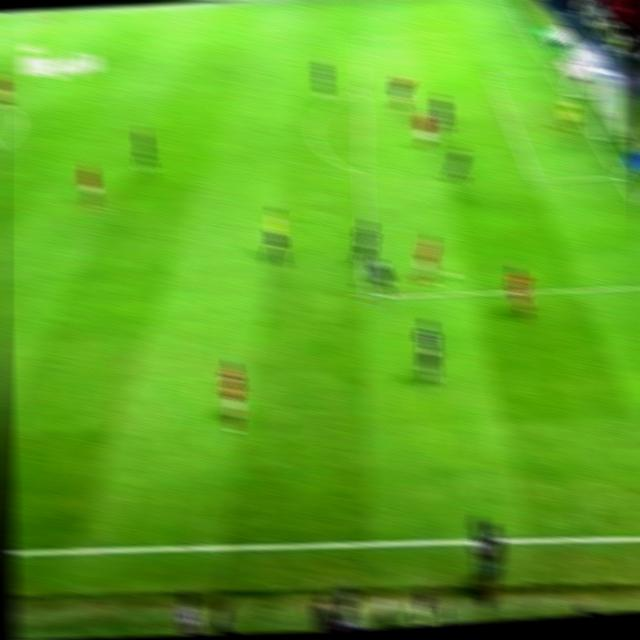bigarea_bottom_inner: (354, 282, 382, 306)
bigarea_top_inner: (353, 31, 367, 44)
bigarea_top_outter: (547, 65, 562, 76)
bottom_arc_area_intersection: (352, 164, 370, 182)
midline_top_intersection: (30, 7, 60, 24)
smallarea_bottom_inner: (527, 170, 547, 189)
smallarea_bottom_outter: (614, 168, 631, 183)
smallarea_top_inner: (484, 69, 500, 80)
top_arc_area_intersection: (351, 81, 368, 97)
